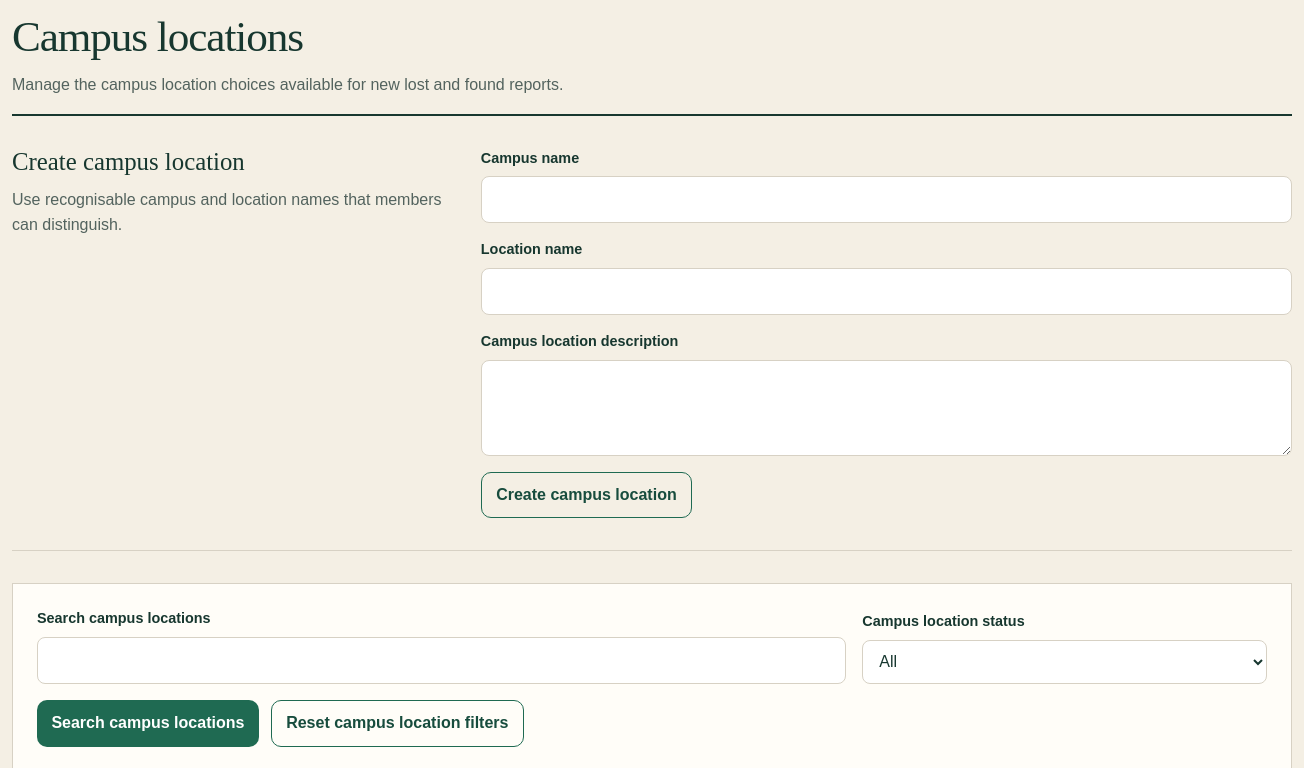
blocks duplicate create submissions and retains safe form errors
Type "Albany" into the field labelled "Campus name" at (886, 200), box 481,176 -> 1292,223
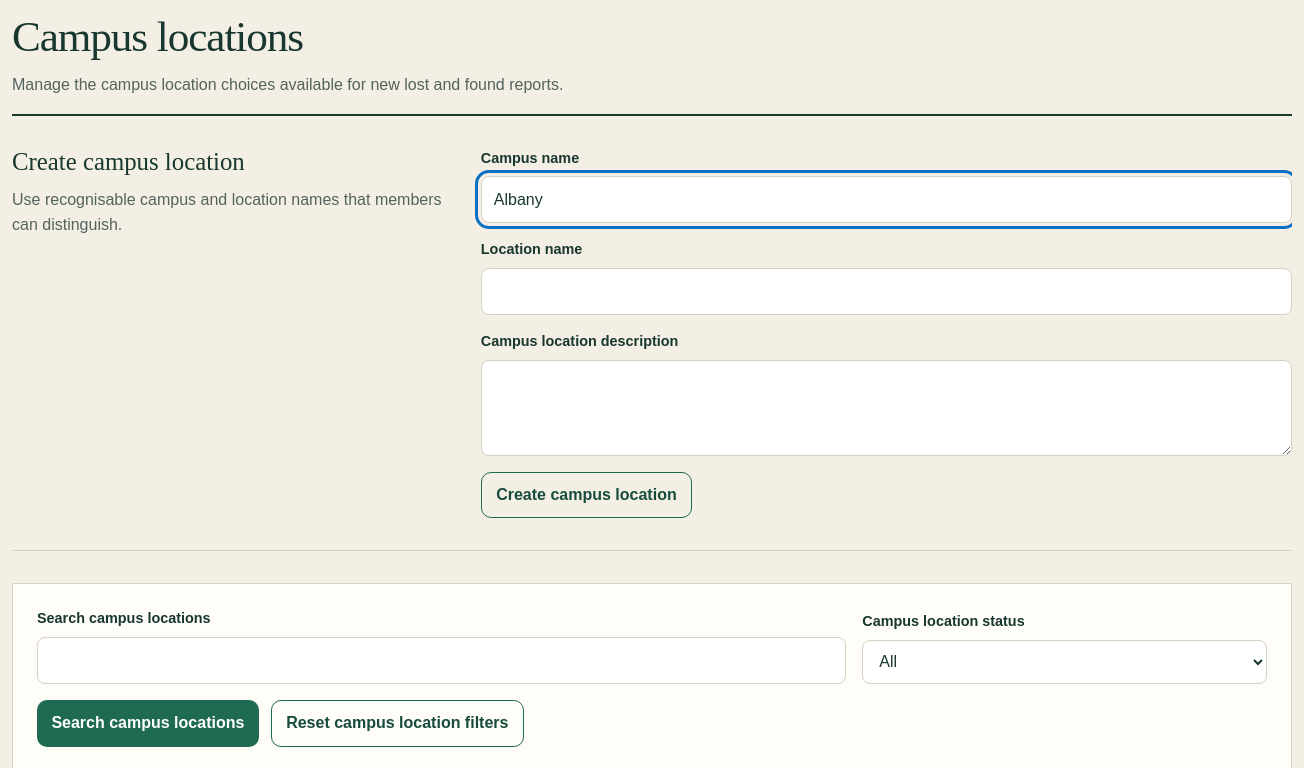
Type "Phone collection desk" into the field labelled "Location name" at (886, 291), box 481,268 -> 1292,315
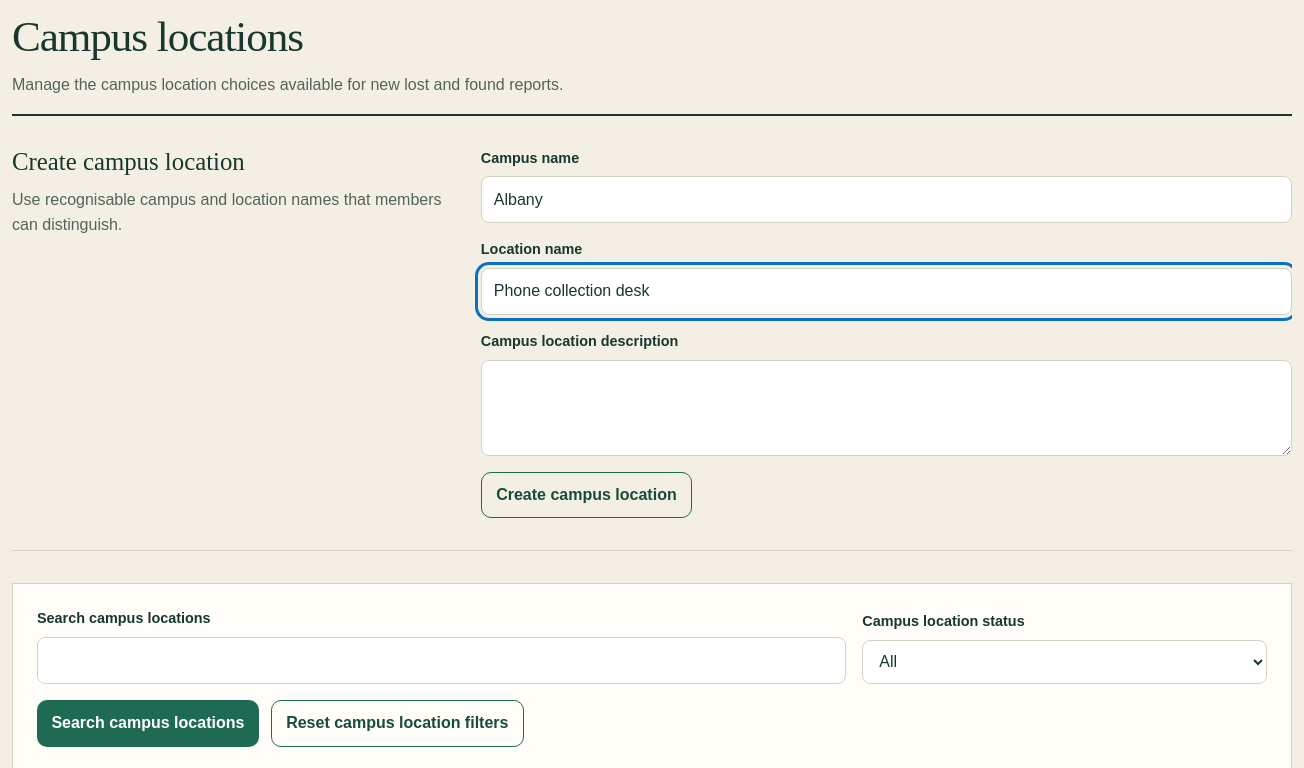
Click the button "Create campus location" at (586, 495), box 481,472 -> 692,518
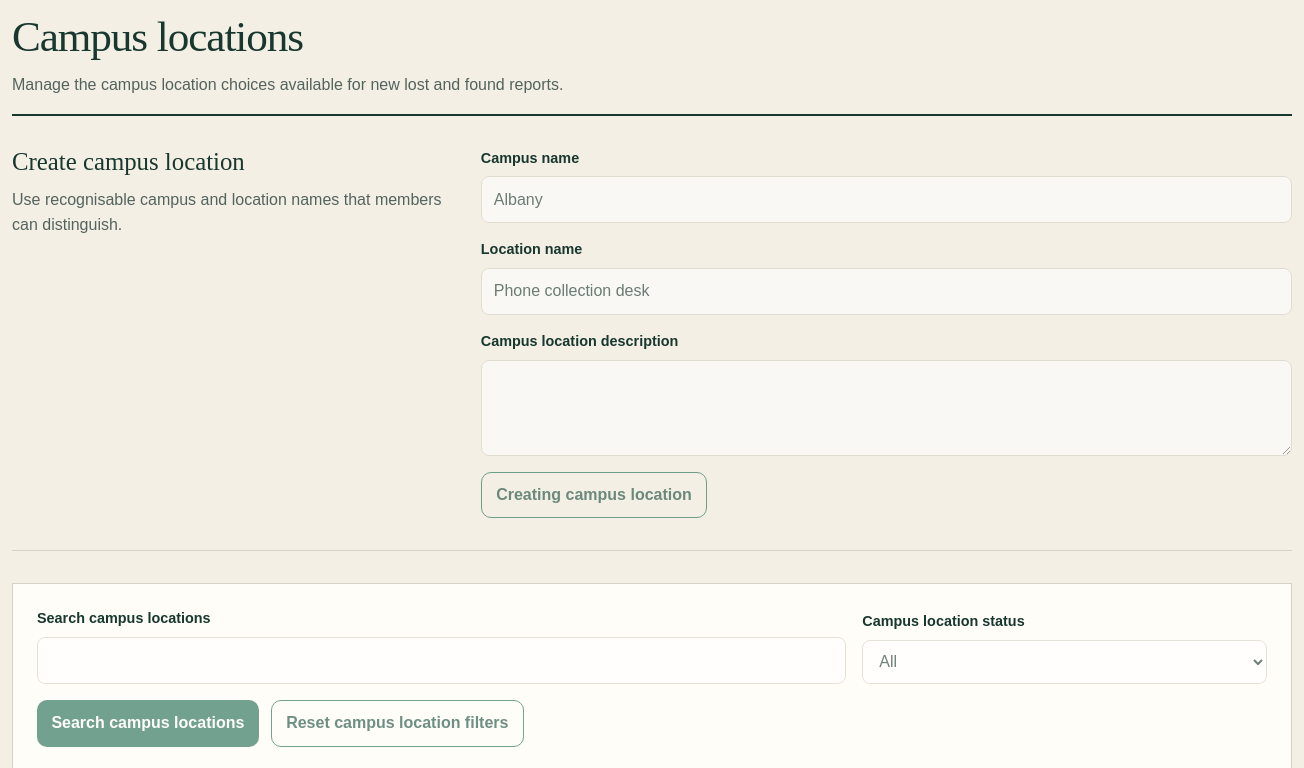
Check: the button "Creating campus location" is disabled
Click the button "Creating campus location" at (594, 495), box 481,472 -> 707,518
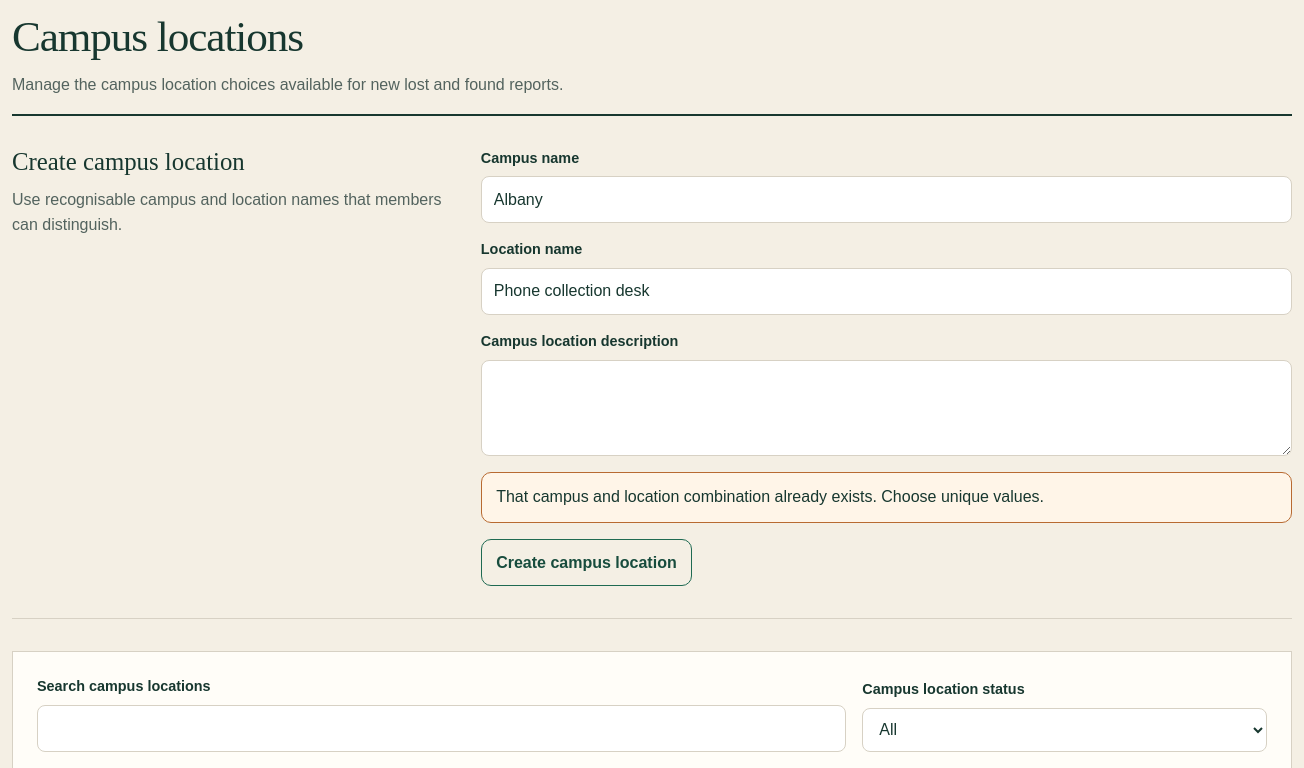
Check: the message reads "That campus and location combination already exists. Choose unique values.", box 496,488 -> 1044,505
Click the button "Create campus location" at (586, 563), box 481,539 -> 692,586
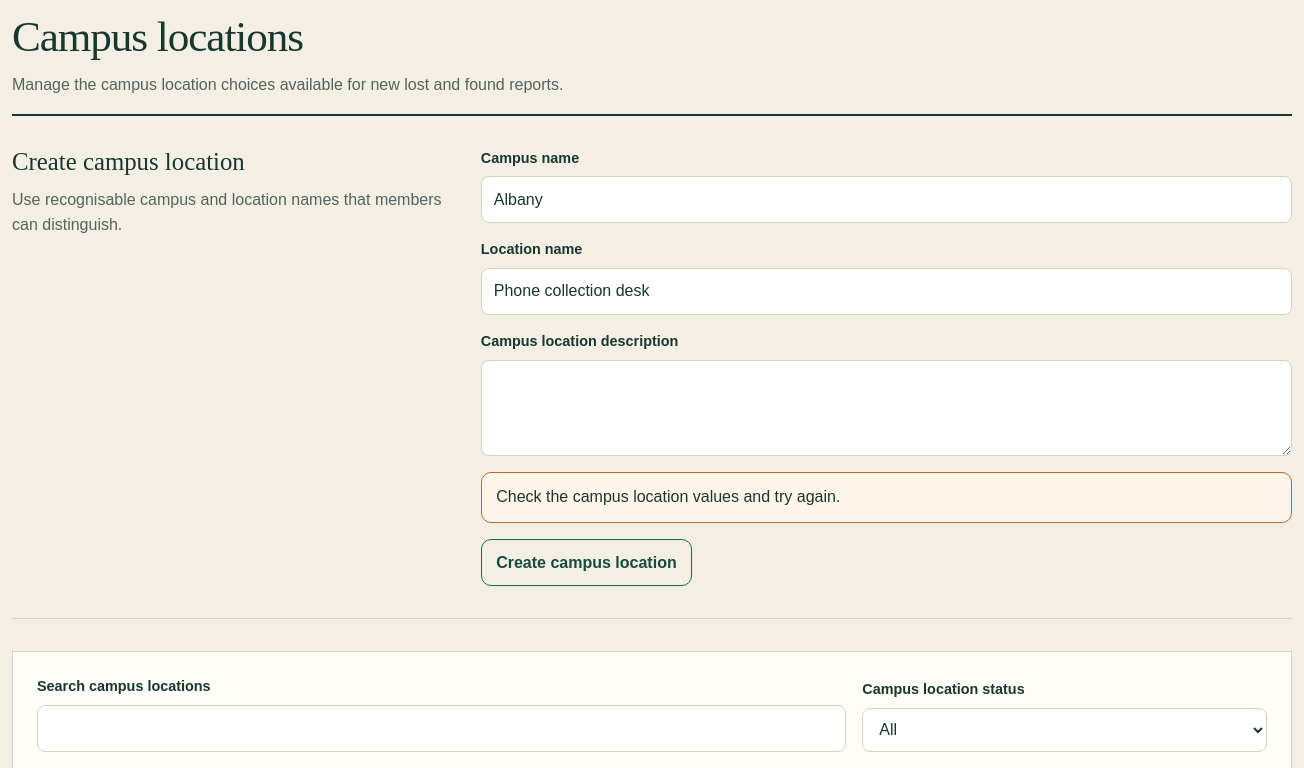
Check: the message reads "Check the campus location values and try again.", box 496,488 -> 840,505
